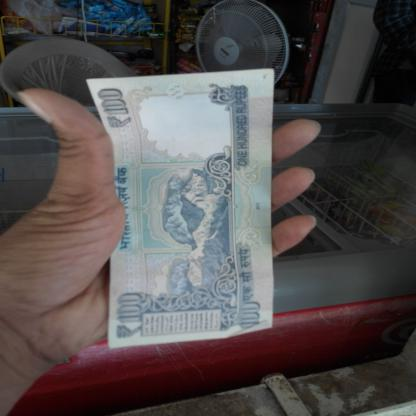Old100Back: (84, 68, 276, 350)
